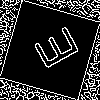E: (25, 25, 81, 76)
